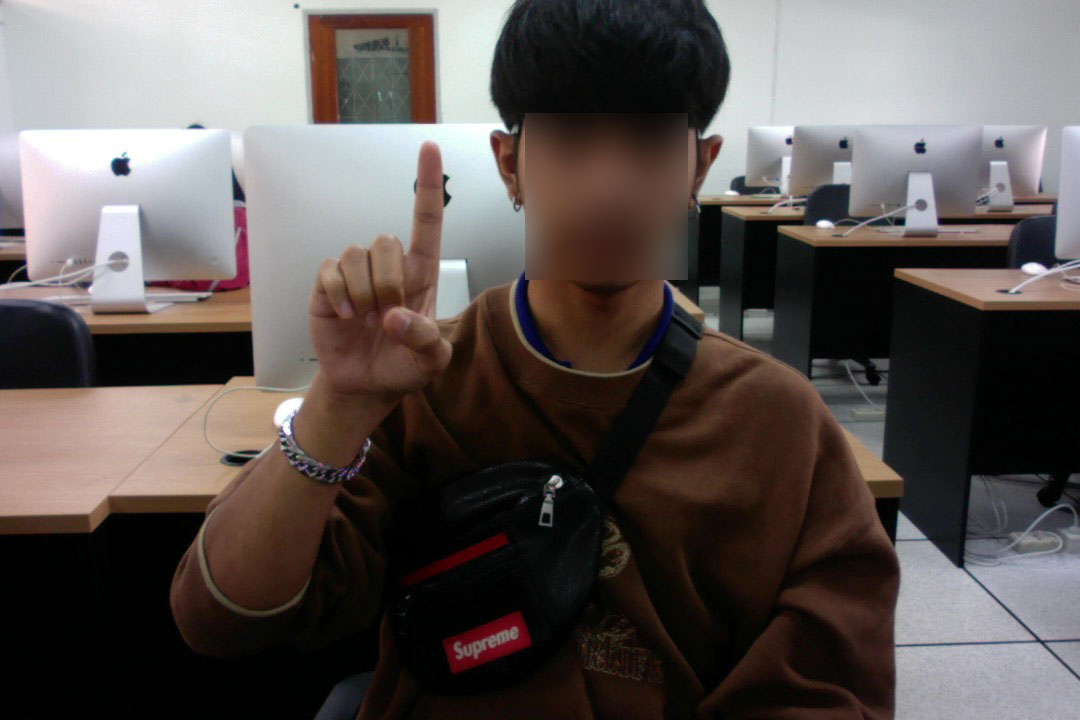dor: (292, 136, 463, 398)
